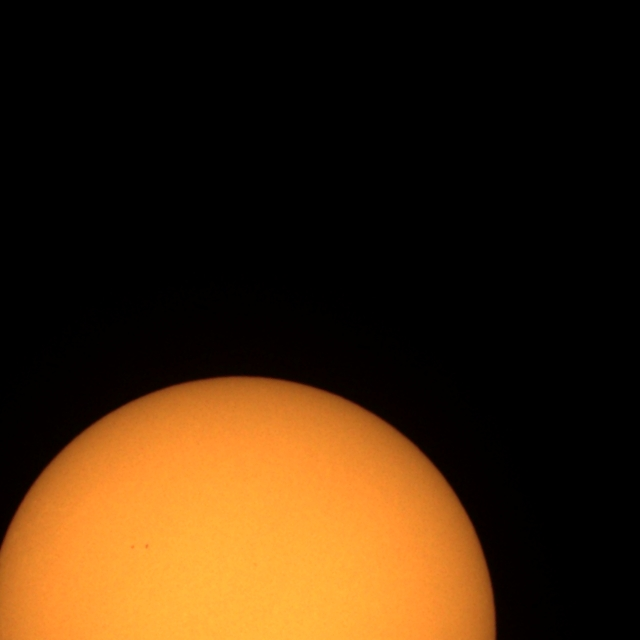sunspot: (129, 542, 150, 551), (143, 542, 150, 550), (130, 544, 136, 550)
